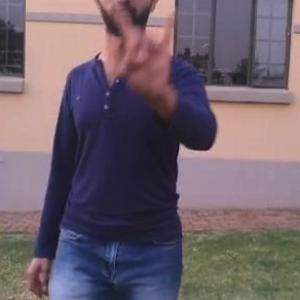takeoff-hand: (108, 4, 179, 100)
